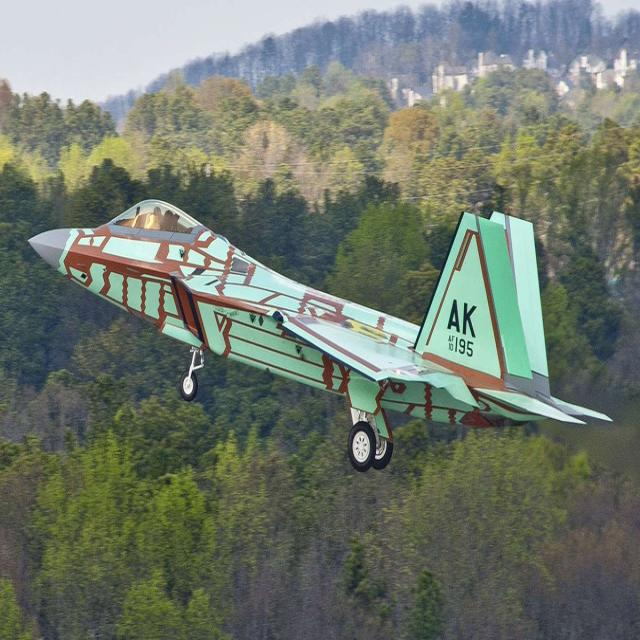MIL_Plane: (28, 199, 613, 472)
